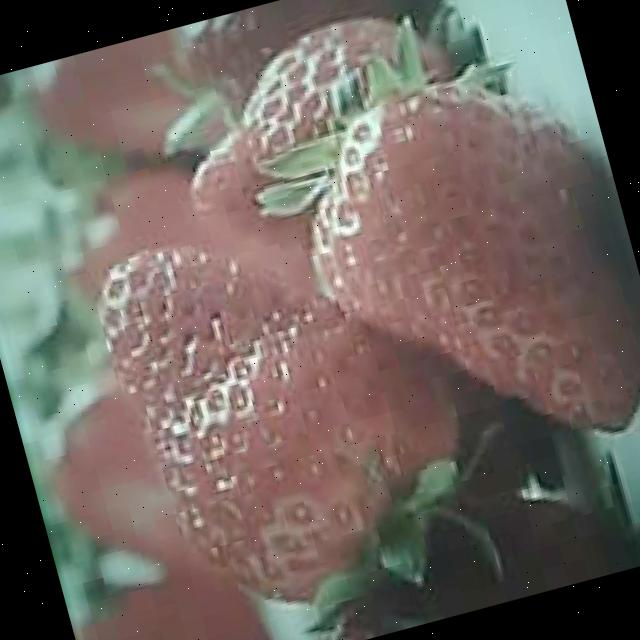strawberry: (84, 185, 492, 636), (281, 51, 640, 496)
